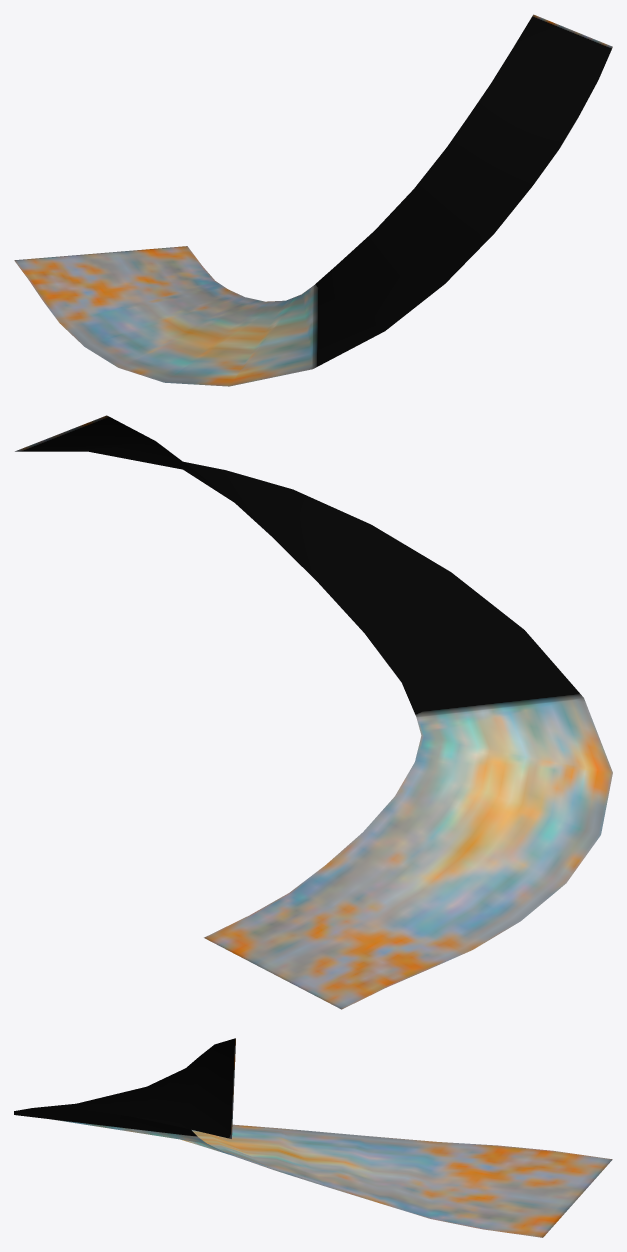
File: Ani_Cq_Att_02_01.FBX
3 views of the same model, one above another, from view 1: azimuth 30°, elevation 25°; view 2: azimuth 150°, elevation 25°; view 3: azimuth 270°, elevation 25° (orthographic). The views are drawn at different scales.
Parts seen in each view (by area): view 1: Ani_Cq_Att_02_01; view 2: Ani_Cq_Att_02_01; view 3: Ani_Cq_Att_02_01.
Part boxes in pixels (left/top/right/bottom): Ani_Cq_Att_02_01: left=14, top=14, right=612, bottom=386; Ani_Cq_Att_02_01: left=15, top=415, right=612, bottom=1009; Ani_Cq_Att_02_01: left=14, top=1038, right=612, bottom=1237.
Size of the model in its own units: 128 by 72.35 by 122.
